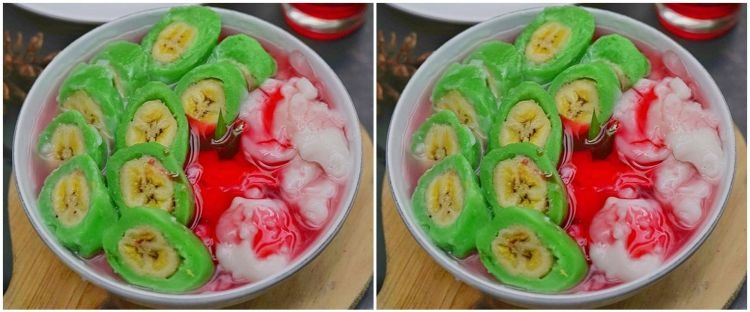es_pisang_ijo: (41, 3, 349, 291), (409, 6, 719, 287)
